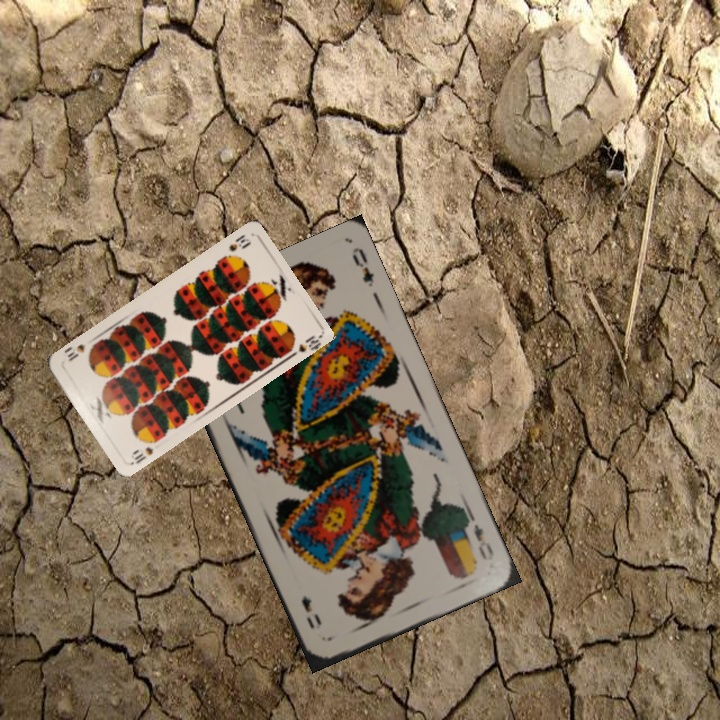EO: (460, 510, 497, 564)
S10: (127, 434, 161, 467), (225, 231, 253, 254)
